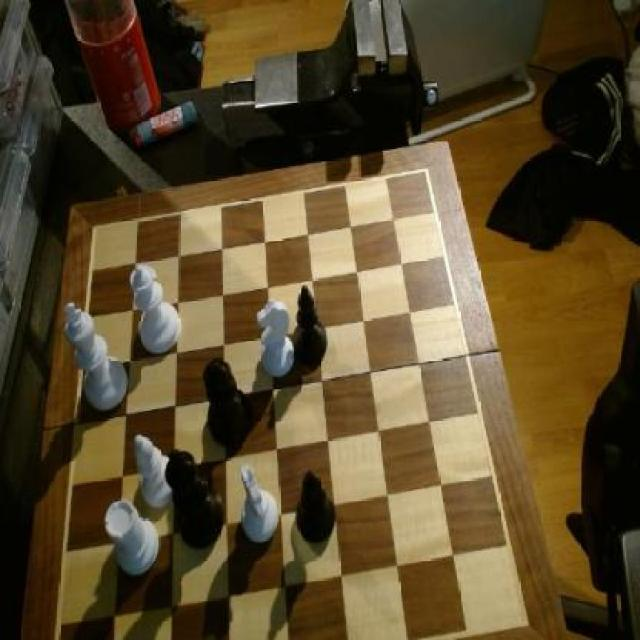bishop: (294, 278, 331, 368), (296, 468, 336, 548)
black-bishop: (160, 446, 228, 549)
black-pawn: (202, 355, 254, 450)
black-rook: (130, 429, 178, 513)
white-bishop: (63, 303, 131, 415)
white-king: (237, 461, 281, 547), (257, 297, 300, 382)
white-pawn: (129, 262, 183, 358)
white-queen: (103, 495, 163, 581)
